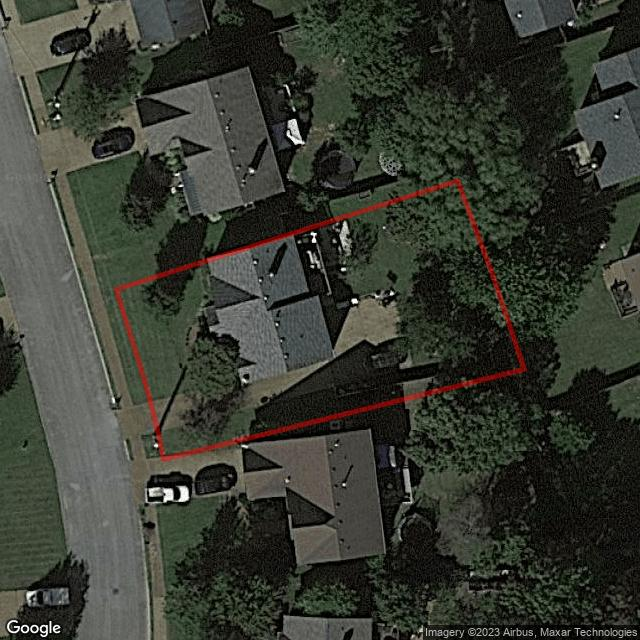Driveway: (155, 290, 414, 431), (101, 289, 146, 404)
Extra Driveway: (116, 406, 157, 439)
Extra Lawn: (141, 433, 163, 460)
Extra Sidewalk: (88, 296, 134, 408), (126, 437, 146, 459)
House: (196, 238, 332, 389)
Other: (296, 231, 332, 295), (321, 220, 358, 267)
